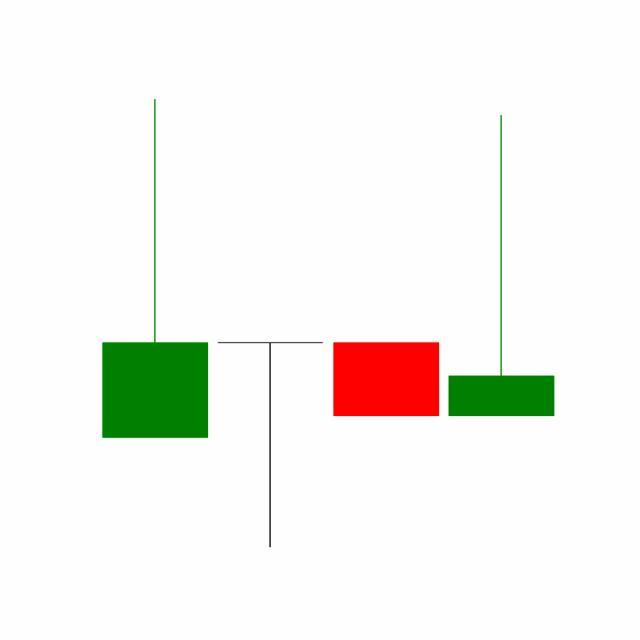Marubozu: (329, 342, 445, 418)
